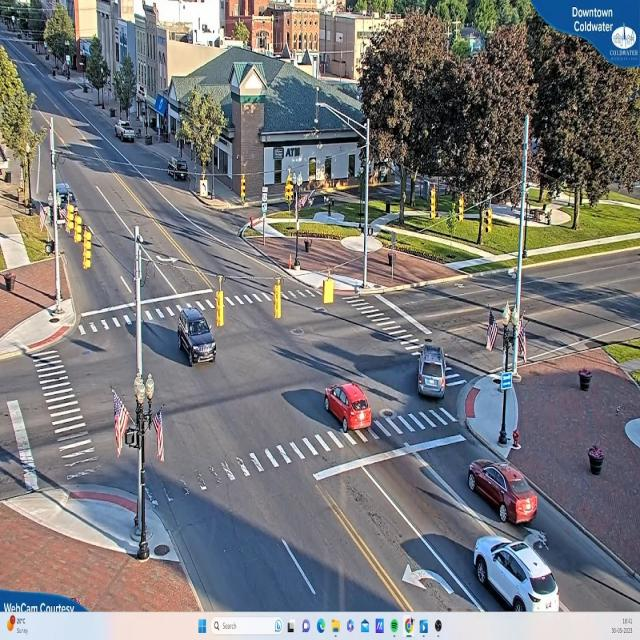car: (473, 533, 564, 612), (466, 462, 538, 526), (324, 385, 372, 436), (175, 308, 217, 365), (416, 344, 446, 399), (587, 443, 604, 474), (116, 123, 136, 143)
